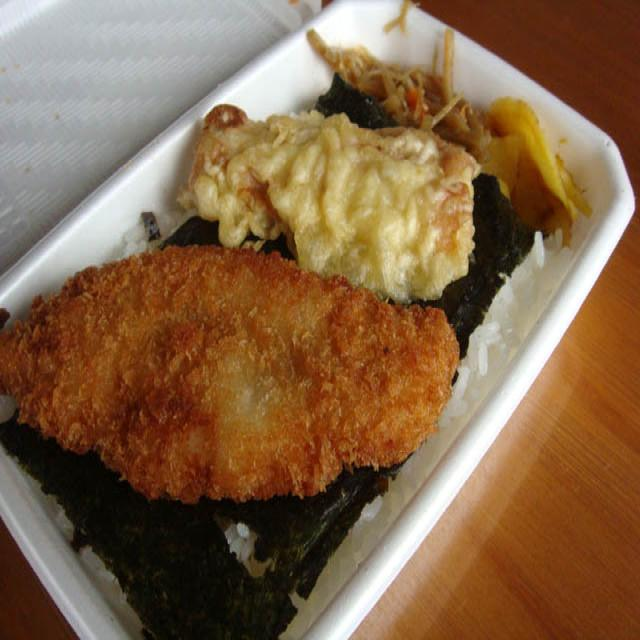炸货点心: (0, 208, 482, 501)
熟制海鲜: (0, 208, 482, 501)
